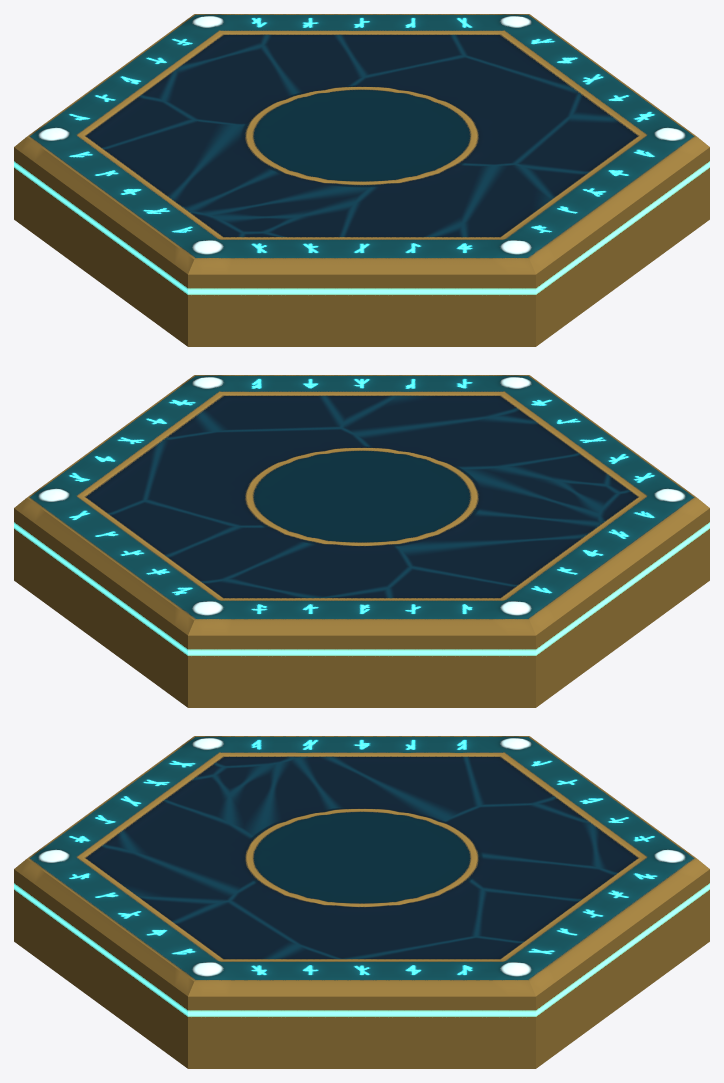
File: hex_abyssal.fbx
3 views of the same model, one above another, from view 1: azimuth 30°, elevation 25°; view 2: azimuth 150°, elevation 25°; view 3: azimuth 270°, elevation 25° (orthographic).
Visible parts, largest first — view 1: hex_abyssal; view 2: hex_abyssal; view 3: hex_abyssal.
Boxes of the visible parts, x1=… form: hex_abyssal: x1=14, y1=14, x2=709, y2=346; hex_abyssal: x1=14, y1=375, x2=709, y2=707; hex_abyssal: x1=14, y1=736, x2=709, y2=1068.
Size of the model in its own units: 2 by 0.3273 by 2.31.
